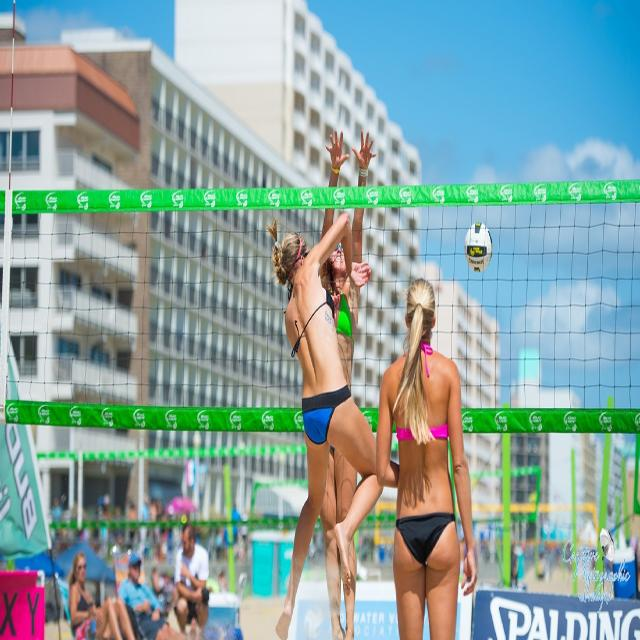body: (36, 500, 619, 602), (265, 208, 386, 639), (372, 274, 480, 639), (320, 126, 378, 639), (117, 550, 198, 639), (68, 551, 137, 640), (173, 520, 211, 639)
